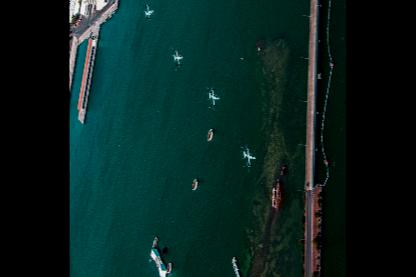Tornado: (241, 142, 256, 171), (206, 84, 220, 109), (170, 44, 183, 70), (142, 0, 154, 23)
